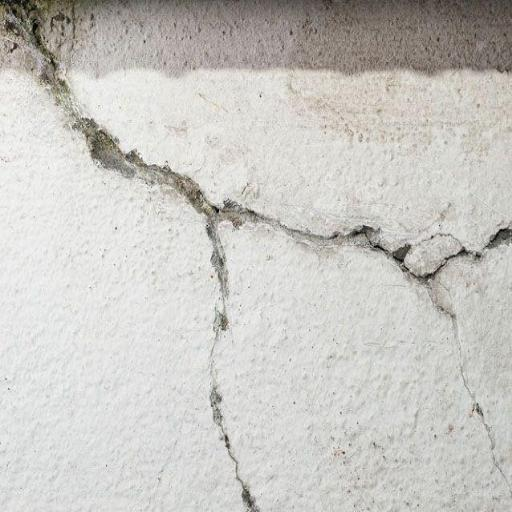spalling: (28, 60, 510, 512)
